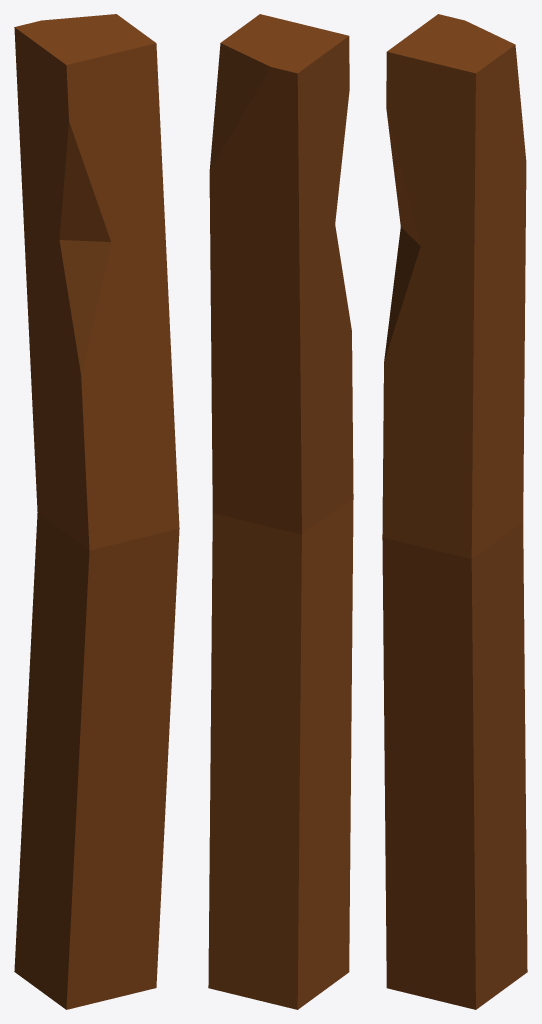
File: FencePost1.fbx
3 views of the same model, side by side, from view 1: azimuth 30°, elevation 25°; view 2: azimuth 150°, elevation 25°; view 3: azimuth 330°, elevation 25° (orthographic).
Visible parts, largest first — view 1: FencePost1; view 2: FencePost1; view 3: FencePost1.
Boxes of the visible parts, bbox=[...] form: FencePost1: bbox=[14, 14, 179, 1009]; FencePost1: bbox=[208, 14, 353, 1009]; FencePost1: bbox=[382, 14, 527, 1009].
Bounding box in the file's own units: 12 × 109 × 13.73.
